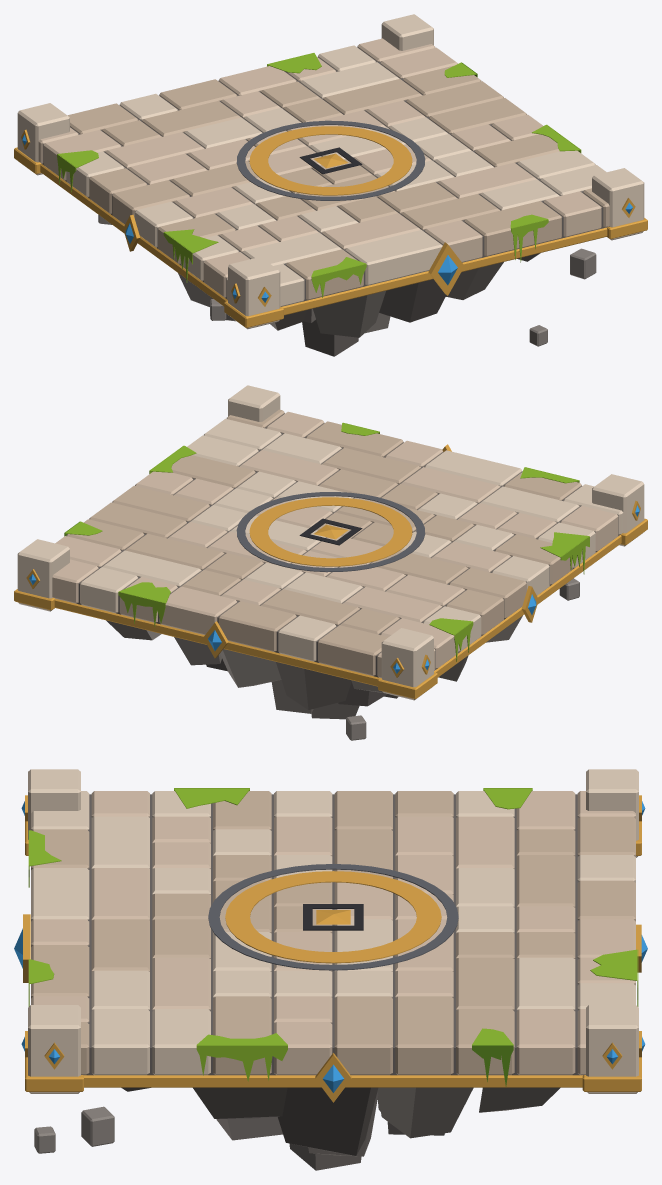
The model's file is Plataforma_Grande.fbx.
3 views of the same model, one above another, from view 1: azimuth 30°, elevation 25°; view 2: azimuth 150°, elevation 25°; view 3: azimuth 270°, elevation 25° (orthographic). The views are drawn at different scales.
Visible parts, largest first — view 1: Plataforma_Grande; view 2: Plataforma_Grande; view 3: Plataforma_Grande.
Boxes of the visible parts, x1,y1,x2,y2 form: Plataforma_Grande: (14,14,647,356); Plataforma_Grande: (14,385,647,740); Plataforma_Grande: (14,769,647,1170).
Bounding box in the file's own units: 16.57 × 7.86 × 16.7.
